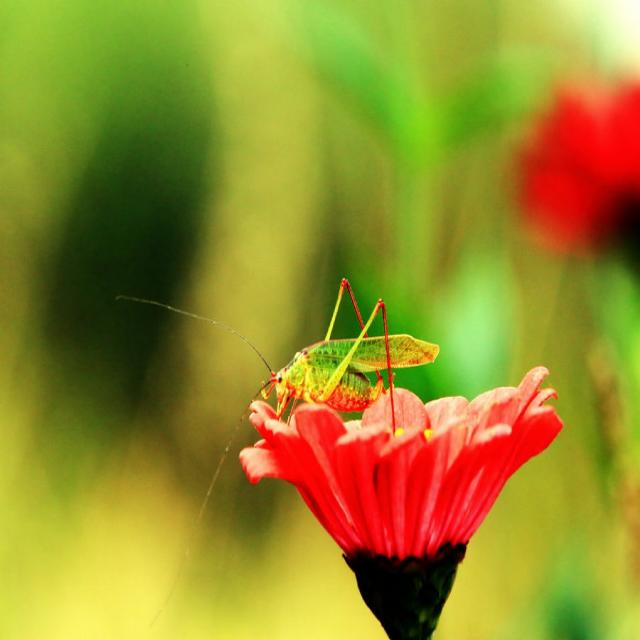ZhaMeng: (192, 271, 469, 438)
